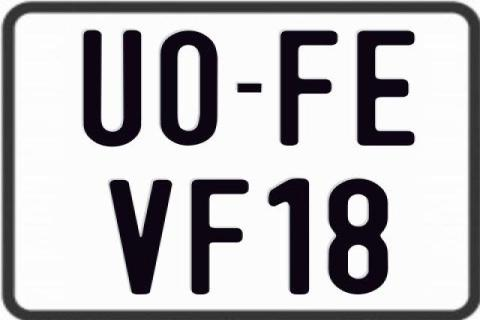0: (327, 177, 388, 297), (160, 28, 220, 144), (266, 178, 307, 294)
E: (356, 29, 417, 144)
F: (280, 30, 340, 150), (188, 177, 250, 293)
U: (80, 28, 144, 144)
V: (110, 178, 172, 294)
